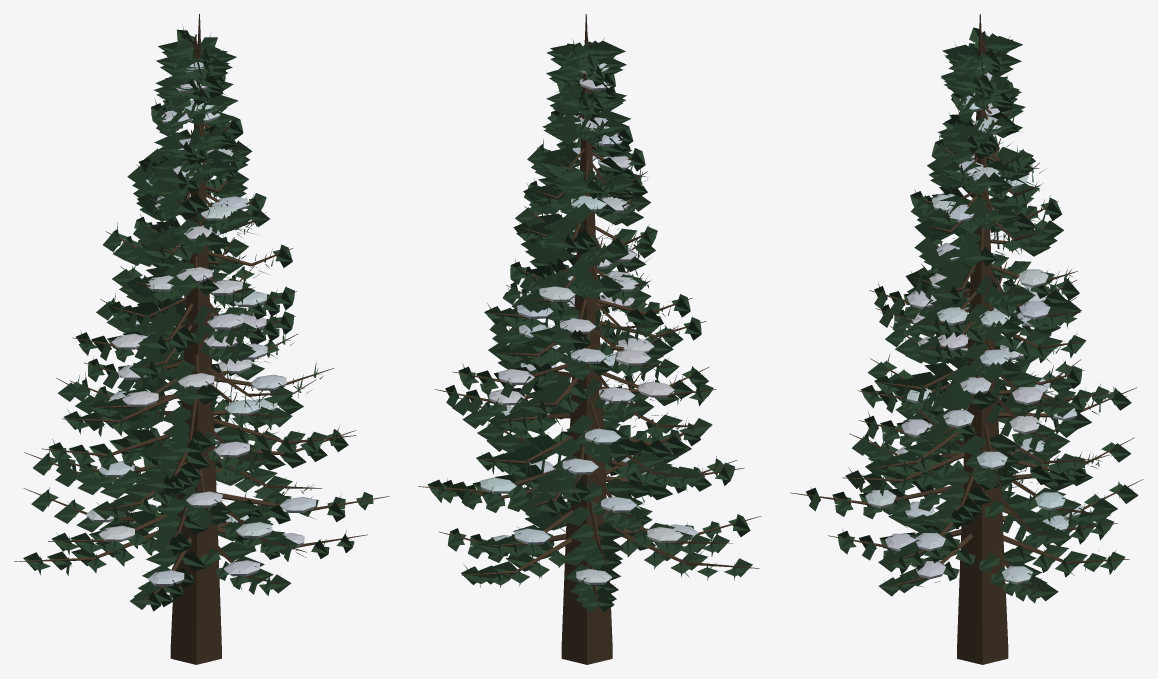
The model's file is pc_spruce_3_lod1.glb.
The picture shows the model from 3 angles, left to right: view 1: azimuth 30°, elevation 25°; view 2: azimuth 150°, elevation 25°; view 3: azimuth 270°, elevation 25°; orthographic projection.
Parts seen in each view (by area): view 1: pc_spruce_3_lod1; view 2: pc_spruce_3_lod1; view 3: pc_spruce_3_lod1.
Boxes of the visible parts, left/top/right/bottom form: pc_spruce_3_lod1: left=14, top=14, right=389, bottom=664; pc_spruce_3_lod1: left=418, top=14, right=761, bottom=664; pc_spruce_3_lod1: left=790, top=14, right=1143, bottom=664.
Size of the model in its own units: 5.54 by 10.5 by 5.26.
